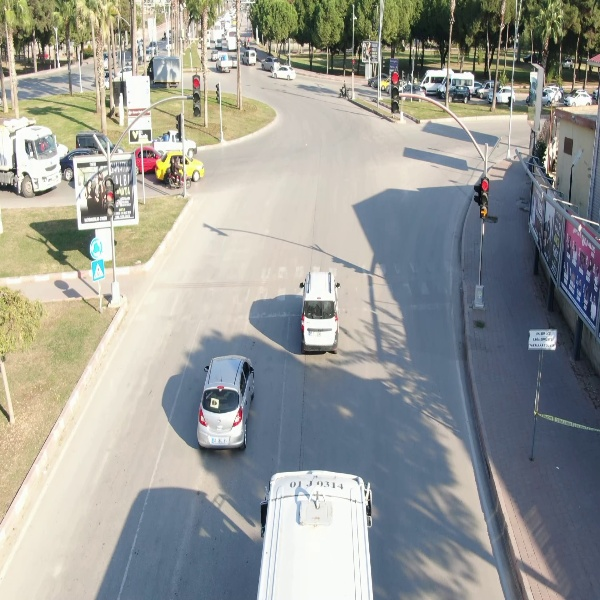car: (195, 352, 258, 454), (298, 270, 341, 356), (488, 84, 517, 104), (563, 89, 595, 107), (446, 85, 474, 104), (272, 64, 299, 81), (239, 47, 258, 66), (261, 56, 279, 72)
